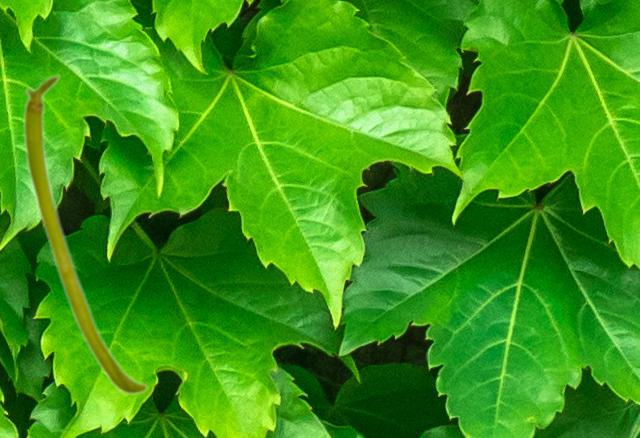french_bean: (22, 73, 148, 395)
